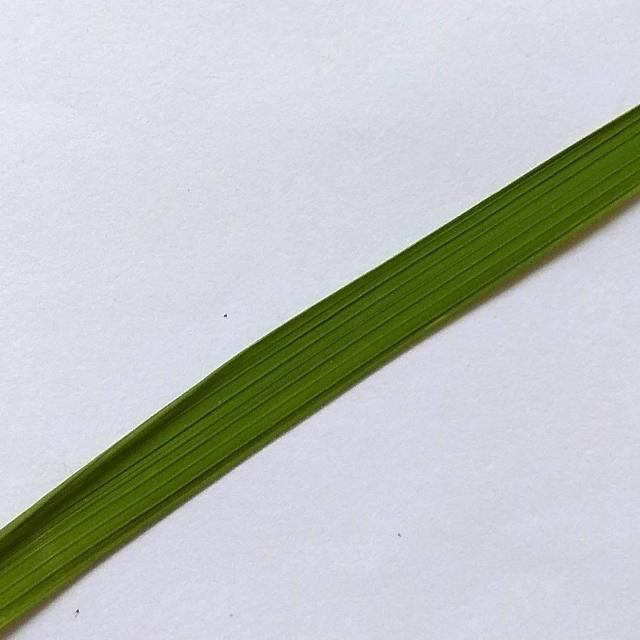healthy: (3, 109, 640, 639)
